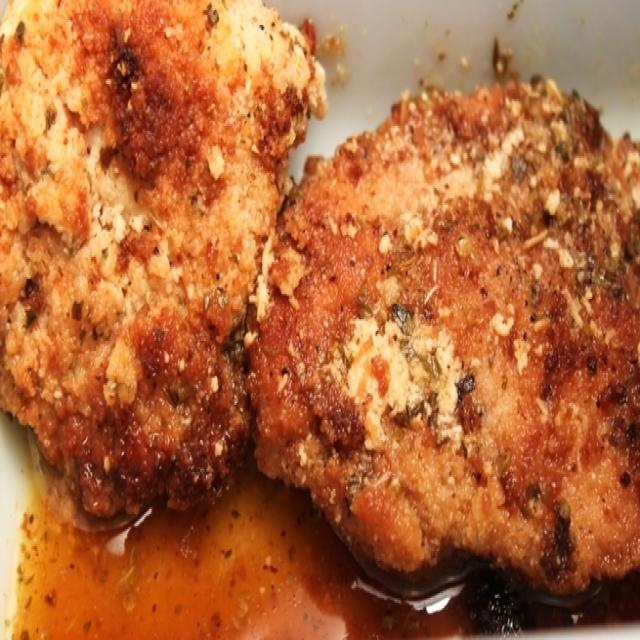鸡肉料理 含炸鸡: (8, 5, 623, 613)
